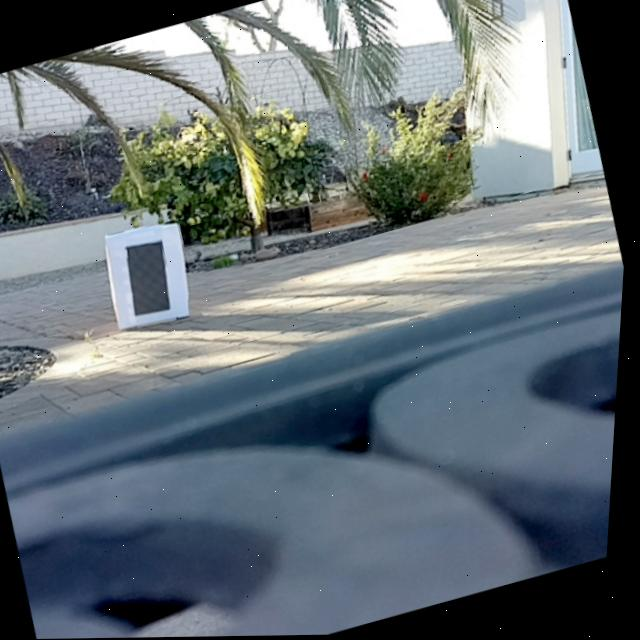led: (118, 235, 184, 320)
